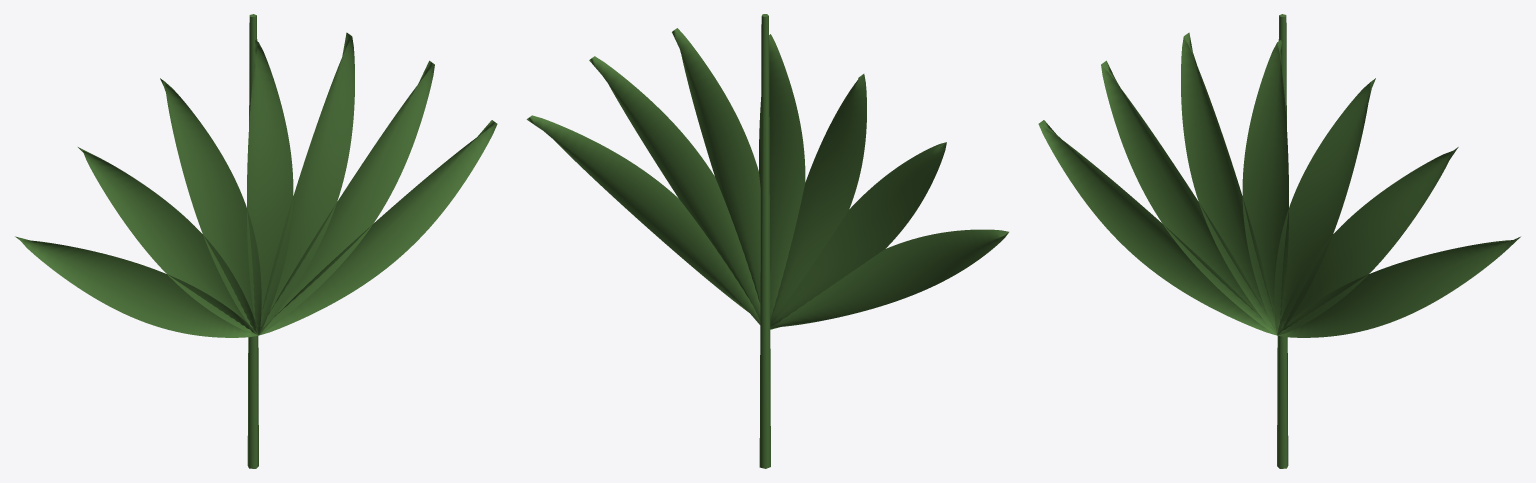
File: leaf-palmate.glb
3 views of the same model, side by side, from view 1: azimuth 30°, elevation 25°; view 2: azimuth 150°, elevation 25°; view 3: azimuth 330°, elevation 25° (orthographic).
Parts seen in each view (by area): view 1: tint-surface; view 2: tint-surface; view 3: tint-surface.
Part boxes in pixels (box(x1,y1,x2,y2)): tint-surface: box(15, 14, 497, 468); tint-surface: box(526, 14, 1008, 468); tint-surface: box(1038, 14, 1520, 468).
Bounding box in the file's own units: 1.11 × 1 × 0.078.
